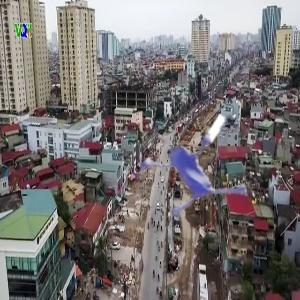drone: (126, 87, 281, 242)
